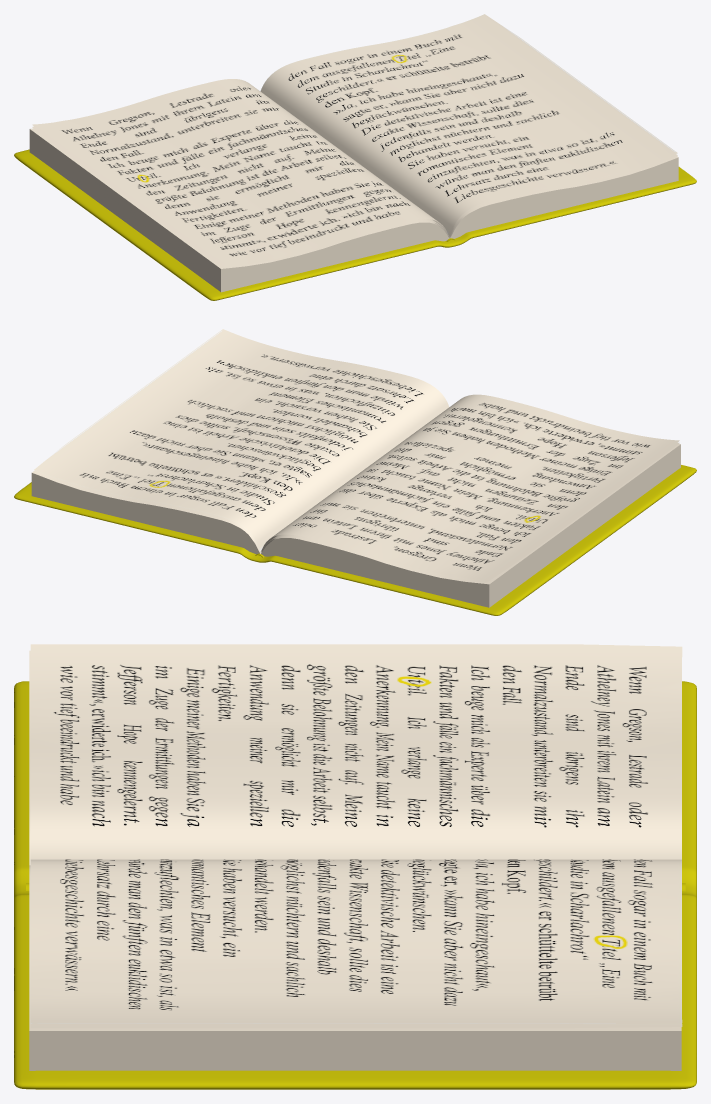
Rendered from yellowBook.fbx.
3 views of the same model, one above another, from view 1: azimuth 30°, elevation 25°; view 2: azimuth 150°, elevation 25°; view 3: azimuth 270°, elevation 25° (orthographic). The views are drawn at different scales.
Parts seen in each view (by area): view 1: page_top_right, page_top_left, lower_left, Book_Cover_base, lower_right, page_top_left_2, page_top_right_2; view 2: page_top_right, page_top_left, lower_left, Book_Cover_base, lower_right, page_top_left_2, page_top_right_2; view 3: page_top_left, page_top_right, lower_right, Book_Cover_base, page_top_right_2.
Boxes of the visible parts, left/top/right/bottom form: page_top_right: left=260, top=14, right=677, bottom=237; page_top_left: left=32, top=79, right=449, bottom=264; lower_left: left=29, top=128, right=449, bottom=292; Book_Cover_base: left=14, top=149, right=696, bottom=300; lower_right: left=449, top=156, right=678, bottom=238; page_top_left_2: left=32, top=126, right=447, bottom=266; page_top_right_2: left=450, top=154, right=677, bottom=236; page_top_right: left=34, top=329, right=449, bottom=552; page_top_left: left=261, top=394, right=679, bottom=580; lower_left: left=261, top=444, right=680, bottom=607; Book_Cover_base: left=14, top=465, right=696, bottom=615; lower_right: left=31, top=470, right=259, bottom=554; page_top_left_2: left=261, top=442, right=679, bottom=582; page_top_right_2: left=34, top=471, right=260, bottom=553; page_top_left: left=30, top=644, right=682, bottom=859; page_top_right: left=30, top=859, right=682, bottom=1024; lower_right: left=29, top=865, right=681, bottom=1070; Book_Cover_base: left=14, top=681, right=696, bottom=1089; page_top_right_2: left=30, top=1023, right=682, bottom=1028.
Bounding box in the file's own units: 101 × 7.04 × 71.91.
3 materials, 2 textured.
